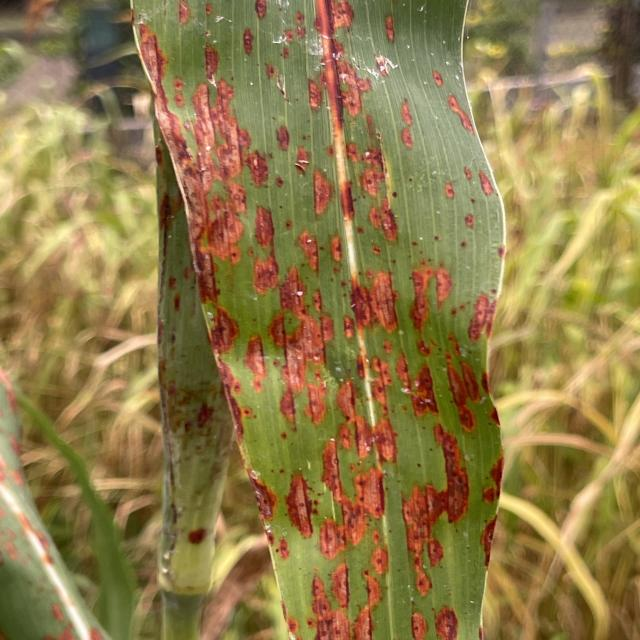millet_rust: (113, 0, 529, 640)
